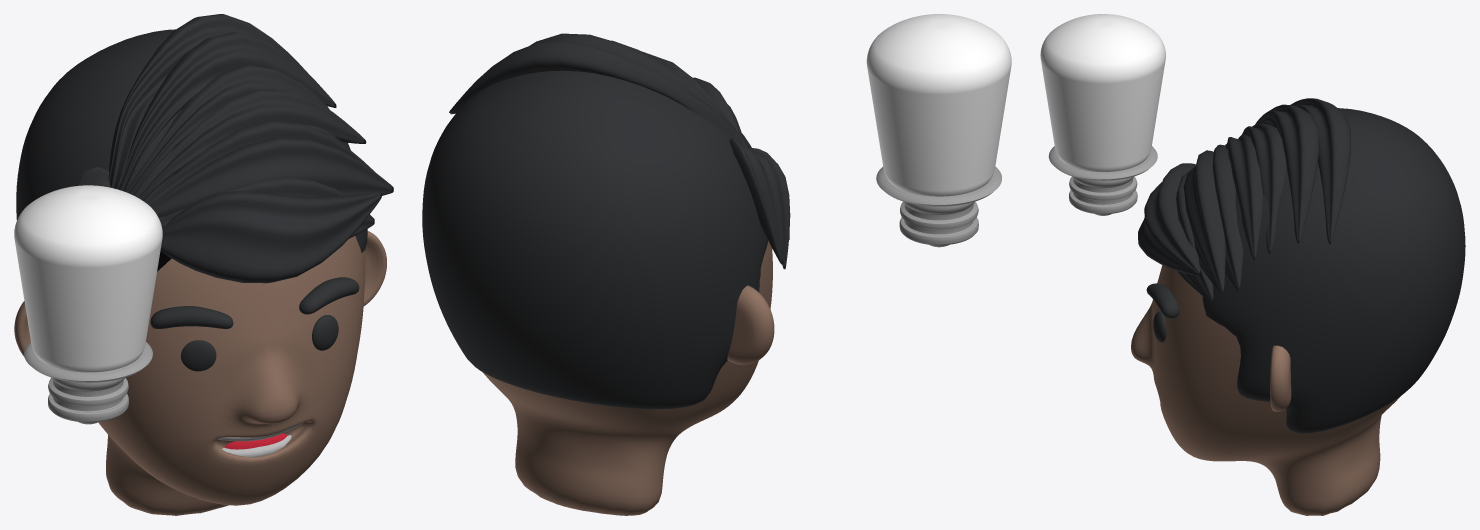
File: problem-solving-3d-animated-icon-72894712321.glb
The picture shows the model from 3 angles, left to right: view 1: azimuth 30°, elevation 25°; view 2: azimuth 150°, elevation 25°; view 3: azimuth 270°, elevation 25°; orthographic projection. The views are drawn at different scales.
Visible parts, largest first — view 1: Cube.031, Cube.076, Cylinder.006, Cube.018, Cylinder.007, Cube.078, Sphere.006, Cube.097, Sphere.007; view 2: Cube.018, Cube.076, Cylinder.006, Cube.031, Cylinder.007; view 3: Cube.018, Cube.076, Cube.031, Cylinder.006, Cylinder.007, Cube.078.
Boxes of the visible parts, bbox=[...] form: Cube.031: bbox=[76, 14, 393, 283]; Cube.076: bbox=[14, 231, 386, 515]; Cylinder.006: bbox=[14, 185, 162, 372]; Cube.018: bbox=[16, 29, 367, 256]; Cylinder.007: bbox=[24, 341, 152, 424]; Cube.078: bbox=[150, 277, 359, 328]; Sphere.006: bbox=[181, 315, 338, 371]; Cube.097: bbox=[217, 422, 303, 457]; Sphere.007: bbox=[224, 433, 287, 449]; Cube.018: bbox=[422, 70, 767, 409]; Cube.076: bbox=[482, 241, 774, 515]; Cylinder.006: bbox=[866, 14, 1011, 196]; Cube.031: bbox=[449, 33, 790, 269]; Cylinder.007: bbox=[876, 166, 1001, 247]; Cube.018: bbox=[1202, 108, 1465, 433]; Cube.076: bbox=[1131, 265, 1400, 515]; Cube.031: bbox=[1138, 98, 1350, 302]; Cylinder.006: bbox=[1040, 14, 1165, 171]; Cylinder.007: bbox=[1048, 146, 1157, 215]; Cube.078: bbox=[1146, 283, 1179, 318].
Size of what is drawn, in the model's own units: 0.5359 by 0.5243 by 0.5038.
